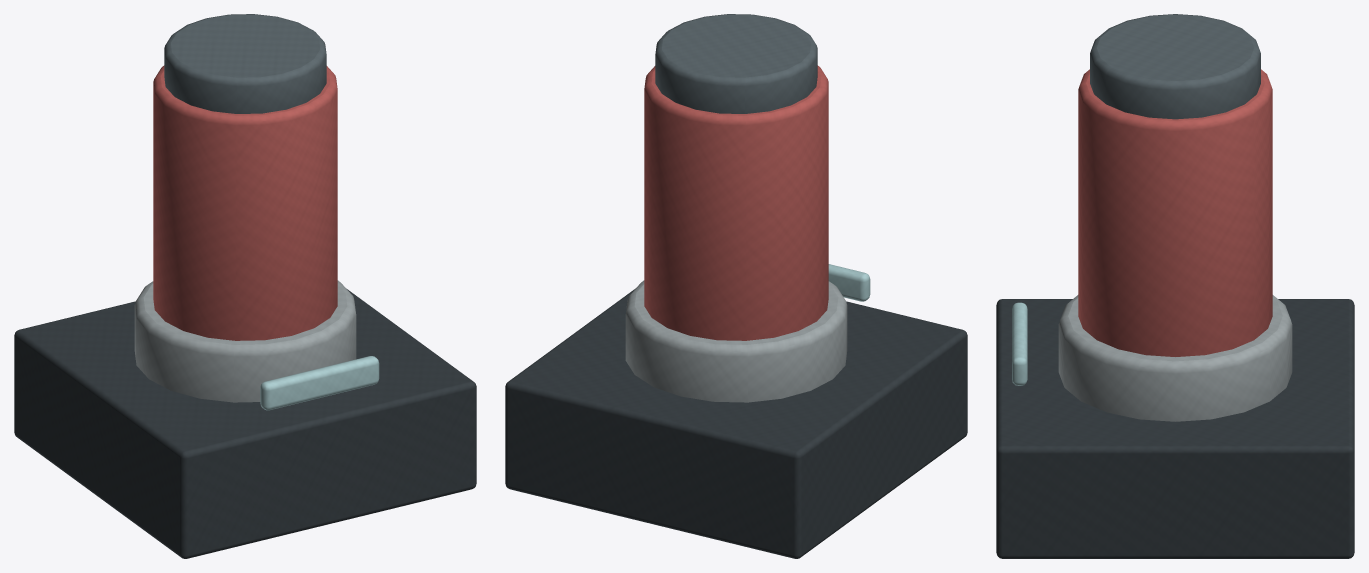
The model's file is FloorWarningBeacon.fbx.
The picture shows the model from 3 angles, left to right: view 1: azimuth 30°, elevation 25°; view 2: azimuth 150°, elevation 25°; view 3: azimuth 270°, elevation 25°; orthographic projection. The views are drawn at different scales.
Visible parts, largest first — view 1: FloorWarningBeacon_Mesh; view 2: FloorWarningBeacon_Mesh; view 3: FloorWarningBeacon_Mesh.
Boxes of the visible parts, x1=… form: FloorWarningBeacon_Mesh: x1=14, y1=14, x2=476, y2=558; FloorWarningBeacon_Mesh: x1=505, y1=14, x2=967, y2=558; FloorWarningBeacon_Mesh: x1=996, y1=14, x2=1354, y2=558.
Size of the model in its own units: 46 by 62 by 46.
Materials: 5 (5 with a texture image).
